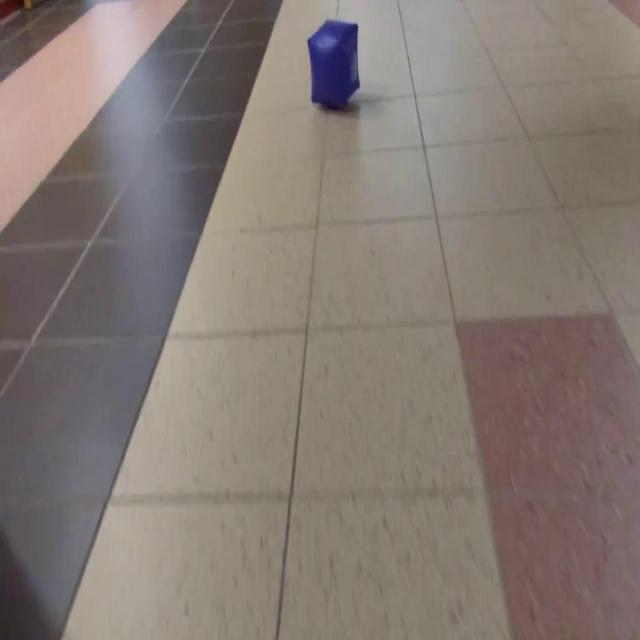frc_cube: (306, 20, 361, 110)
